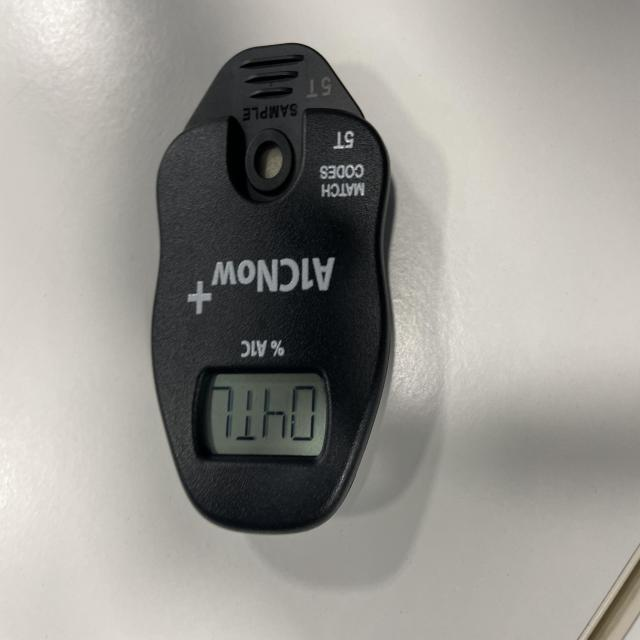hba1c: (149, 44, 396, 538)
